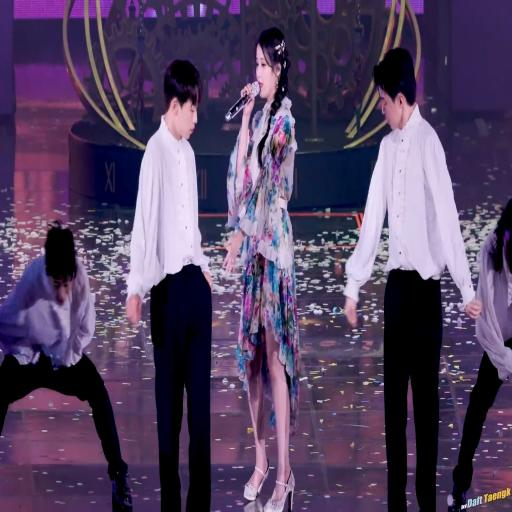IU: (255, 27, 289, 101)
